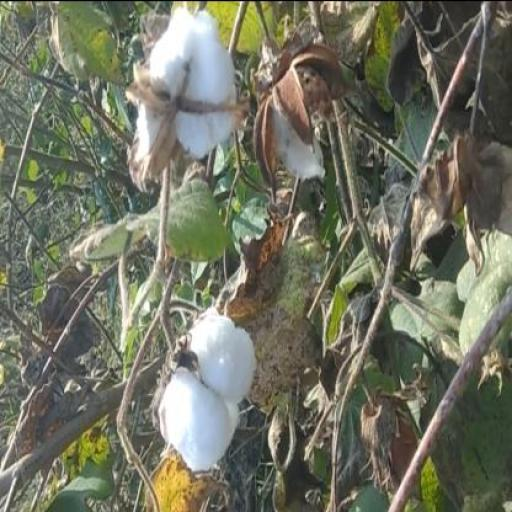cotton_ready: (118, 6, 248, 201), (135, 298, 275, 471)
